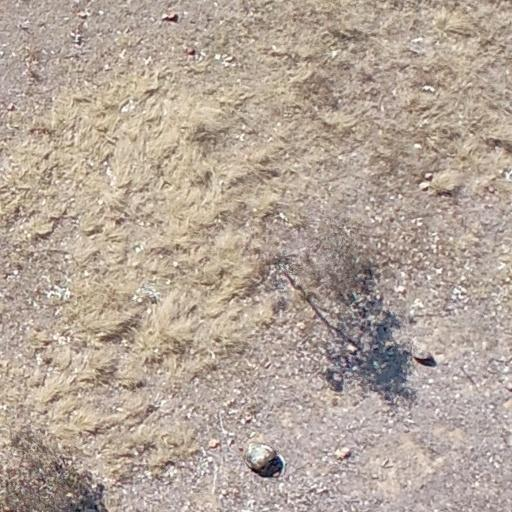stone: (199, 432, 222, 456), (410, 344, 434, 365), (418, 168, 434, 195), (162, 12, 181, 22)
